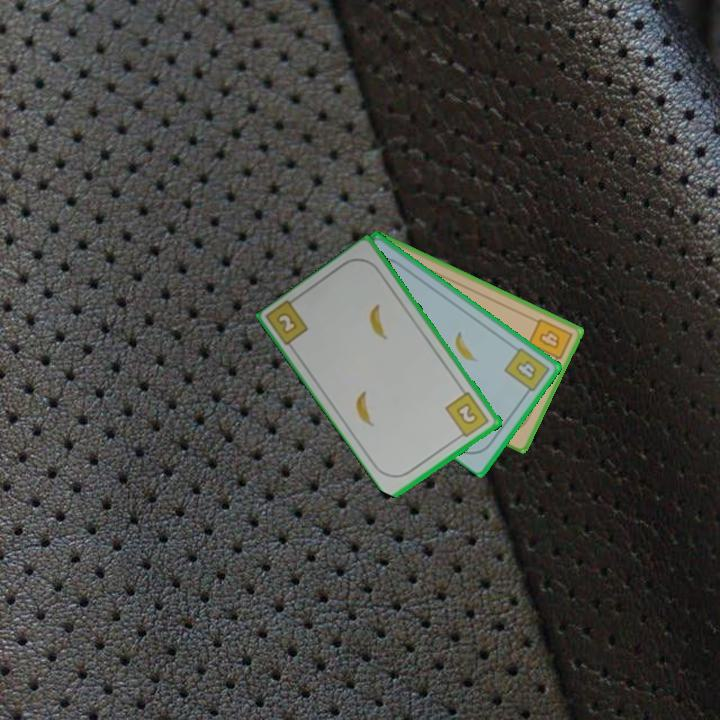2b: (442, 389, 492, 442), (273, 309, 301, 337)
4b: (501, 343, 553, 399), (525, 315, 575, 368)
